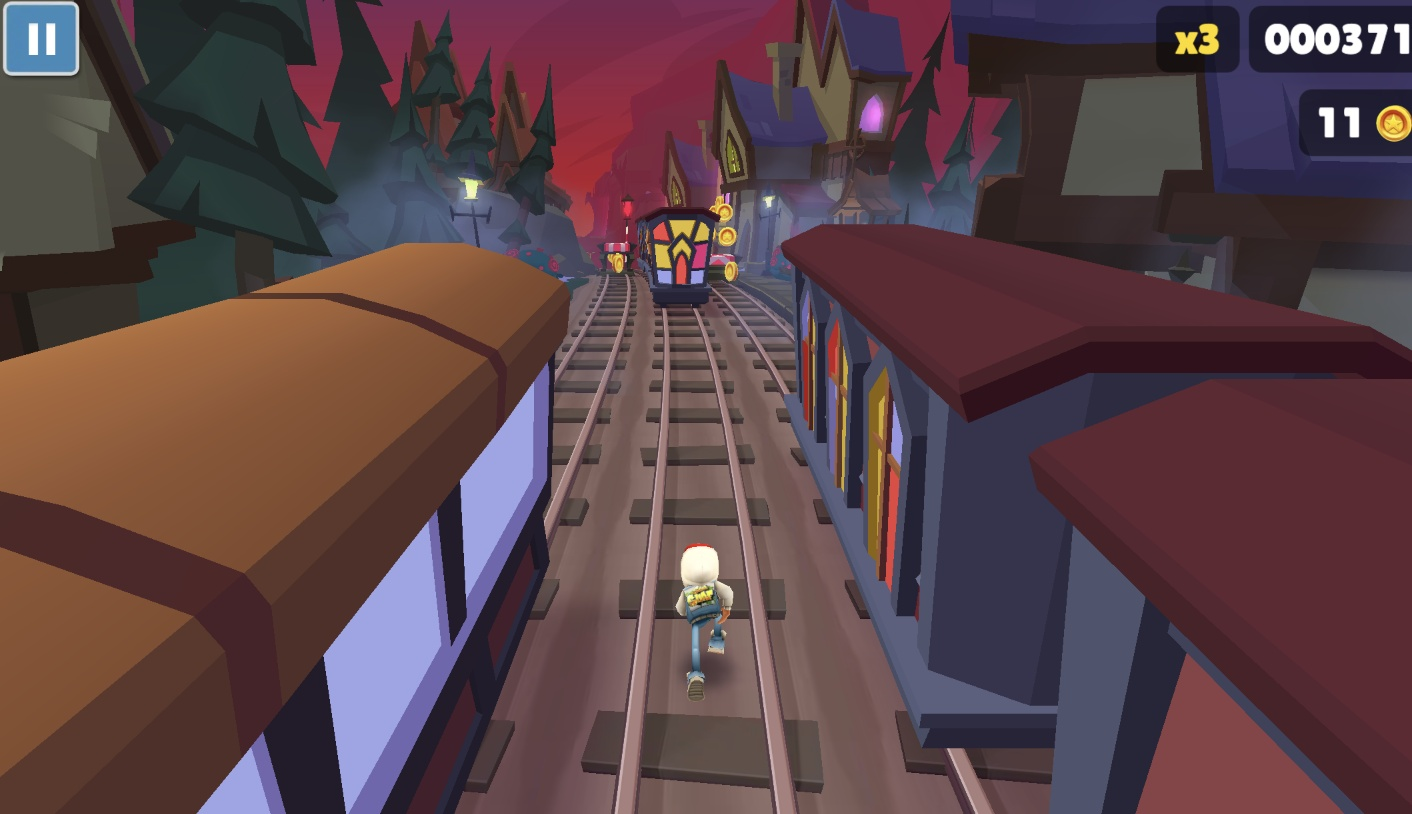ground_barrier: (601, 242, 633, 277), (710, 255, 740, 286)
train: (784, 225, 1412, 814), (0, 248, 561, 814), (633, 207, 723, 312)
